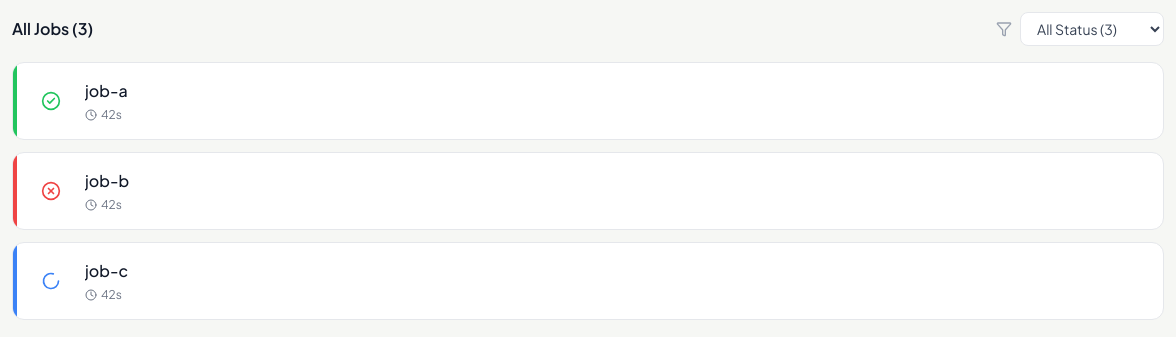
Test: JobsTab status filter › shows "in progress" jobs for the in-progress filter
Select "In Progress (1)" in the dropdown named "Filter jobs by status" at (1092, 29), box left=1020, top=12, right=1164, bottom=46
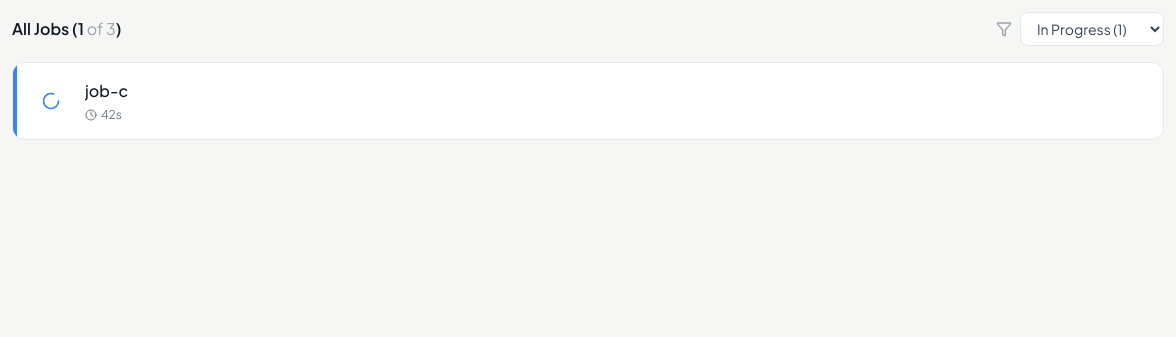
Now the heading "job-c" is shown, box left=85, top=80, right=128, bottom=101
Now the heading "job-a" is gone
